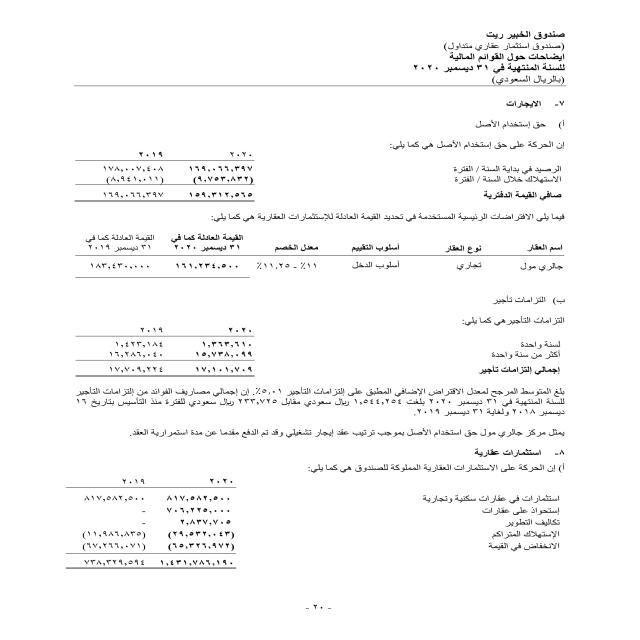notes: (447, 53, 578, 63)
table: (64, 232, 572, 284), (50, 470, 270, 579), (59, 138, 273, 209), (56, 318, 272, 387)
